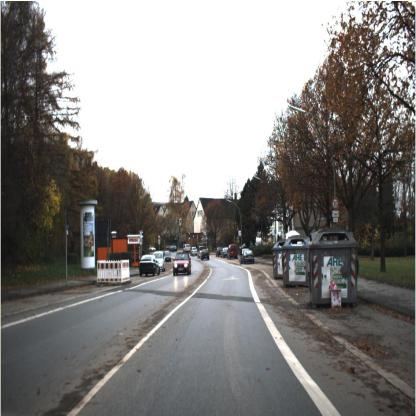prohibitory: (328, 193, 342, 214)
